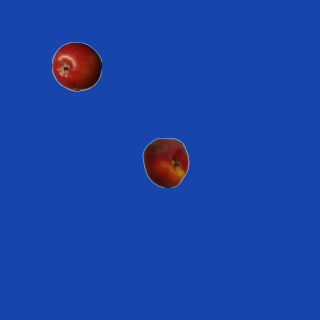Apple Braeburn: (51, 41, 101, 91)
Nectarine Flat: (140, 137, 190, 187)
